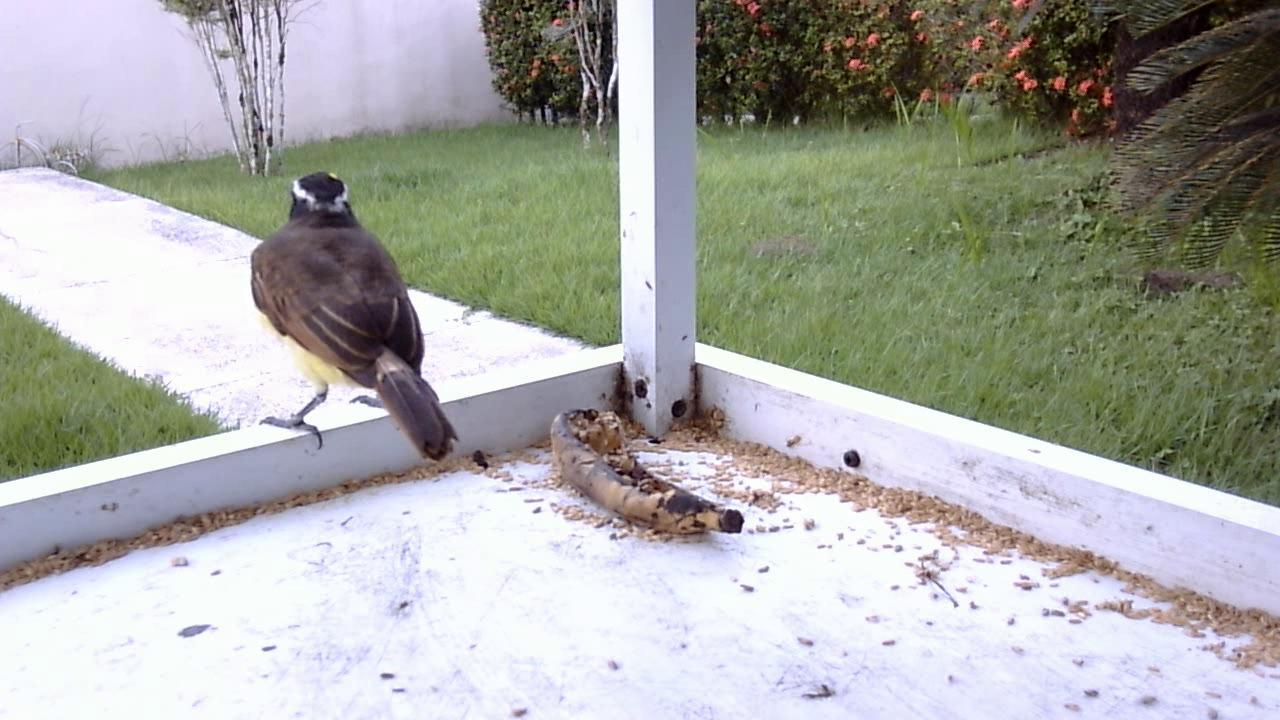bem_te_vi: (234, 164, 461, 472)
